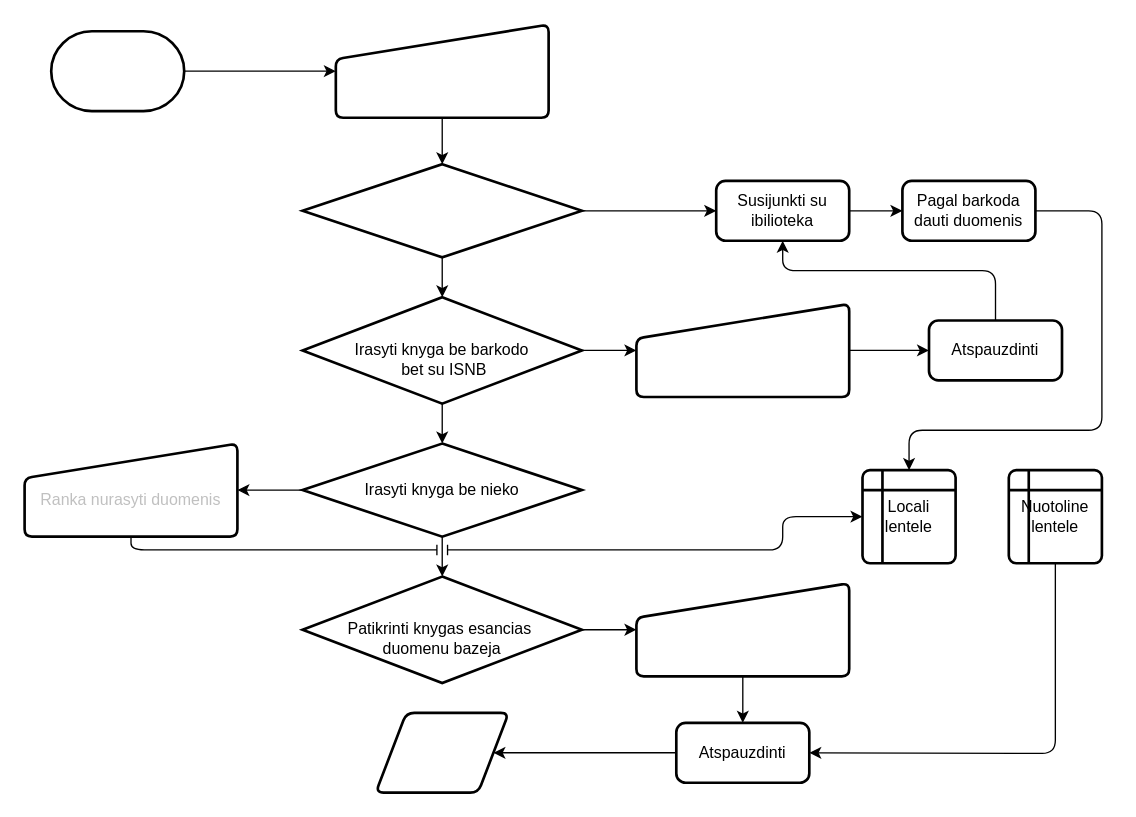
Image size: 1136x817. Some labels were removed from this diagram. Here are the shapes that lost their labels. From the top down, the centre of each, then its label:
the point at 441,70: Pasirinkite kokia funcija norite atlikti
the point at 442,210: Irasyti knyga su barkodu
the point at 742,350: Ranka nurasyti barkoda
the point at 742,629: ISNB kodas
the point at 441,752: Atspauzdinti duoemis
